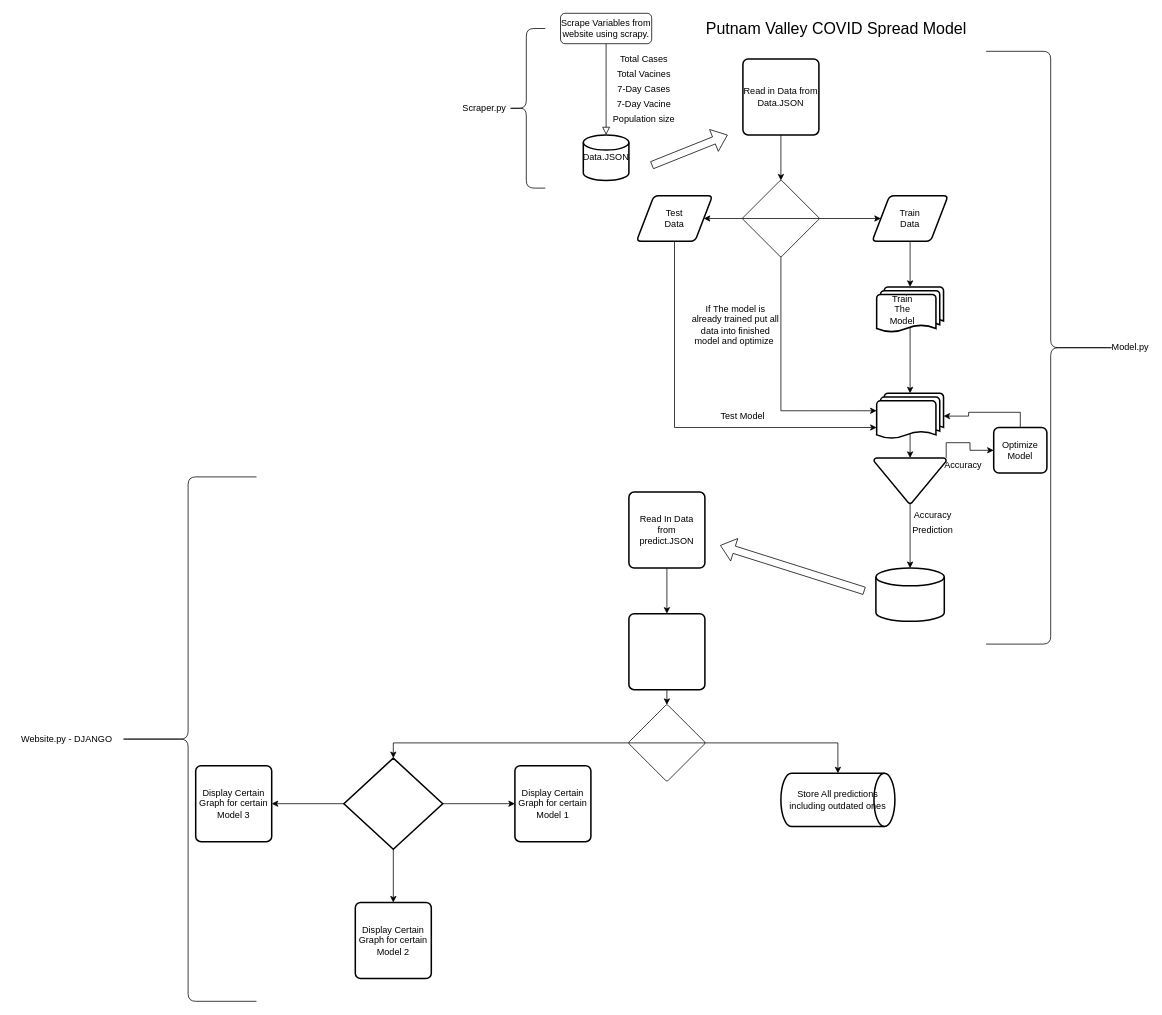
Image size: 1162x1015. Some labels were removed from this diagram. The centre of each missing label's shape, as x and y in pixels:
"Display Type and format of data based on user selection" goes at [393,803].
"Do Both" goes at [666,742].
"Finished Model" goes at [910,415].
"Parse and Process Data into stored vars" goes at [666,651].
"Predict.JSON" goes at [910,594].
"Split Data To train and Test" goes at [780,218].
